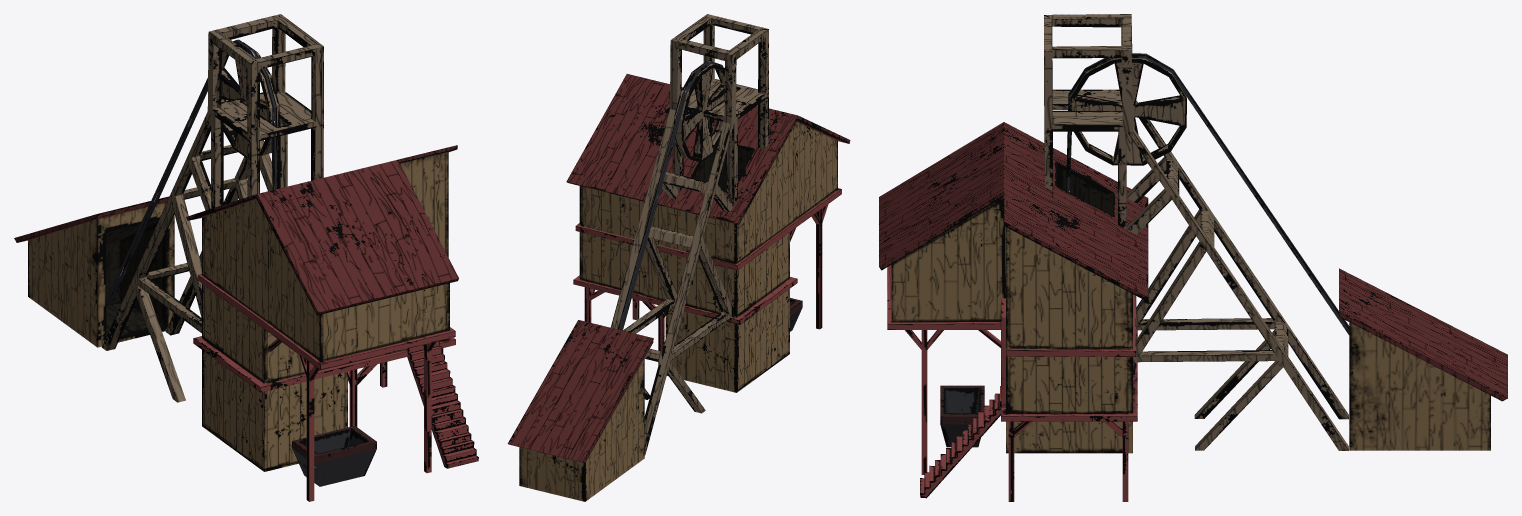
File: SM_Mine.fbx
3 views of the same model, side by side, from view 1: azimuth 30°, elevation 25°; view 2: azimuth 150°, elevation 25°; view 3: azimuth 270°, elevation 25° (orthographic). The views are drawn at different scales.
Parts seen in each view (by area): view 1: Cube; view 2: Cube; view 3: Cube.
Part boxes in pixels (left/top/right/bottom): Cube: left=14, top=14, right=478, bottom=501; Cube: left=507, top=14, right=850, bottom=501; Cube: left=879, top=14, right=1507, bottom=501.
Bounding box in the file's own units: 149 × 280 × 397.
Materials: 1 (1 with a texture image).
